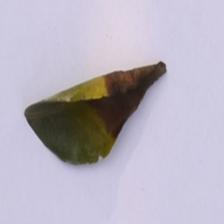black spot: (111, 56, 169, 128)
